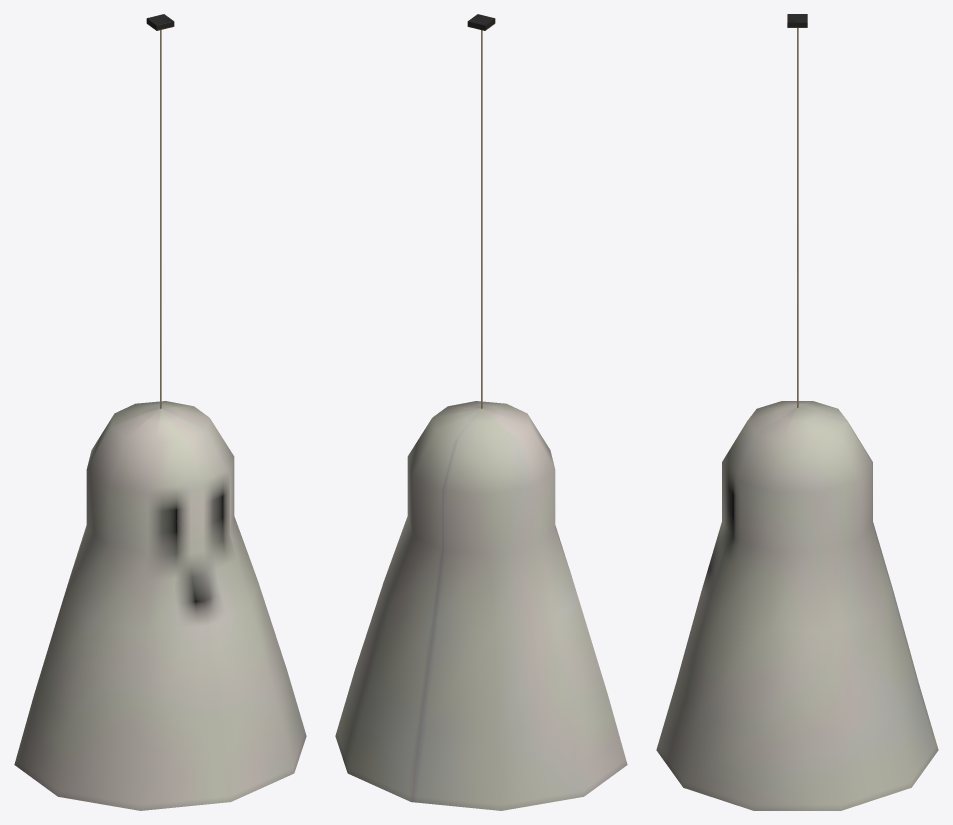
The model's file is ghost_hanging.obj.
3 views of the same model, side by side, from view 1: azimuth 30°, elevation 25°; view 2: azimuth 150°, elevation 25°; view 3: azimuth 270°, elevation 25° (orthographic).
Visible parts, largest first — view 1: ghost_hanging_sheet; view 2: ghost_hanging_sheet; view 3: ghost_hanging_sheet.
Boxes of the visible parts, left/top/right/bottom form: ghost_hanging_sheet: left=14, top=30, right=306, bottom=810; ghost_hanging_sheet: left=335, top=30, right=627, bottom=810; ghost_hanging_sheet: left=656, top=28, right=938, bottom=810.
Bounding box in the file's own units: 0.5706 × 1.6 × 0.56.
Materials: 1 (1 with a texture image).
